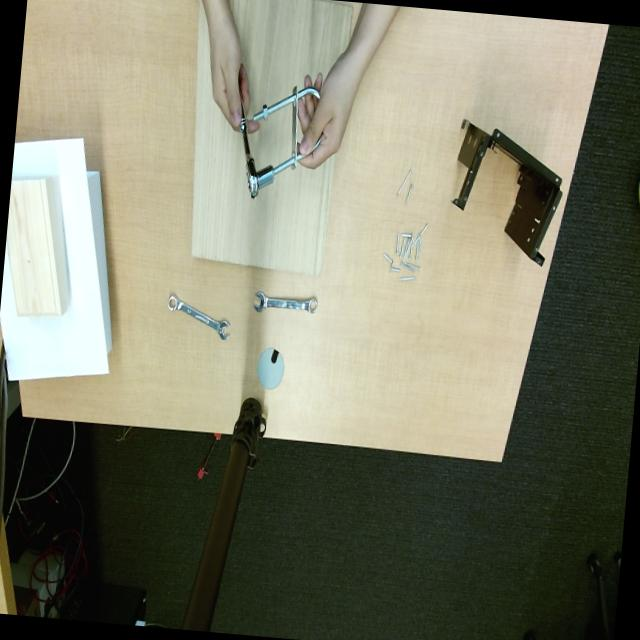wrench: (239, 103, 274, 198), (167, 294, 229, 341), (253, 290, 317, 313)
